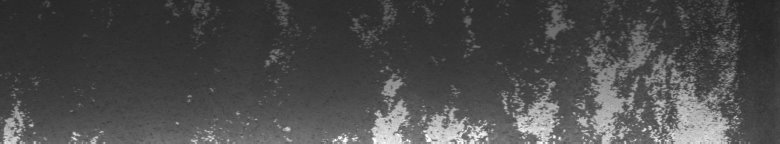kb: (166, 4, 744, 136)
